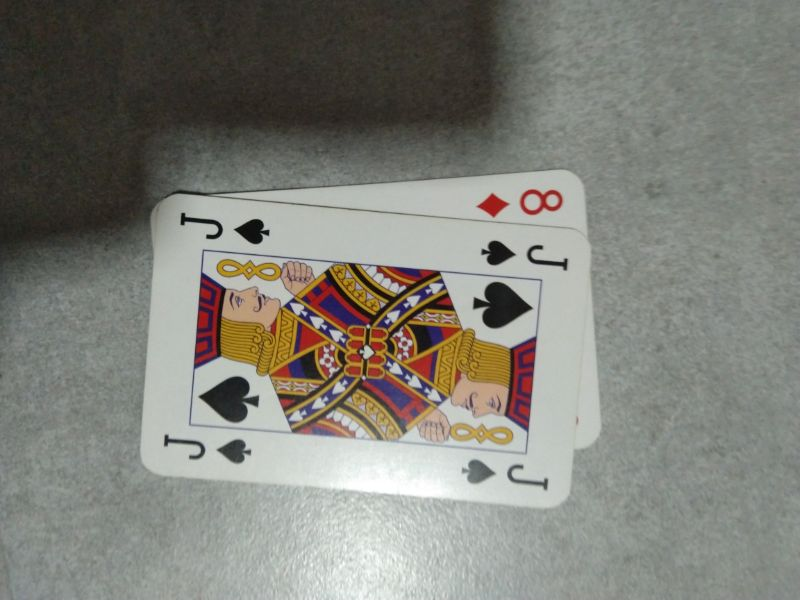8d: (470, 177, 568, 225)
Js: (172, 200, 276, 253), (472, 233, 577, 280), (454, 453, 556, 500), (158, 427, 262, 470)
